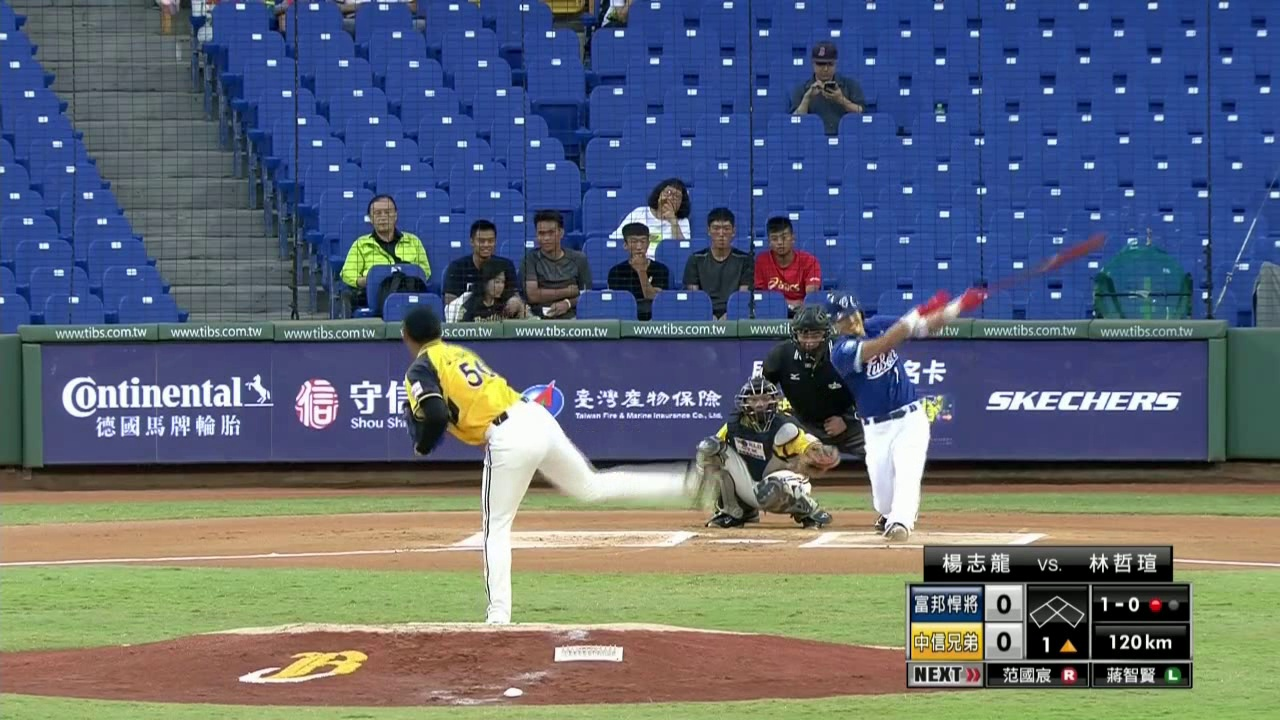base: (1029, 591, 1087, 629)
bat: (984, 232, 1109, 295)
out: (1148, 596, 1179, 613)
score1: (987, 585, 1023, 620)
score2: (985, 622, 1022, 659)
session: (1038, 635, 1078, 653)
speed: (1105, 627, 1175, 654)
strikeball: (1095, 592, 1141, 614)
